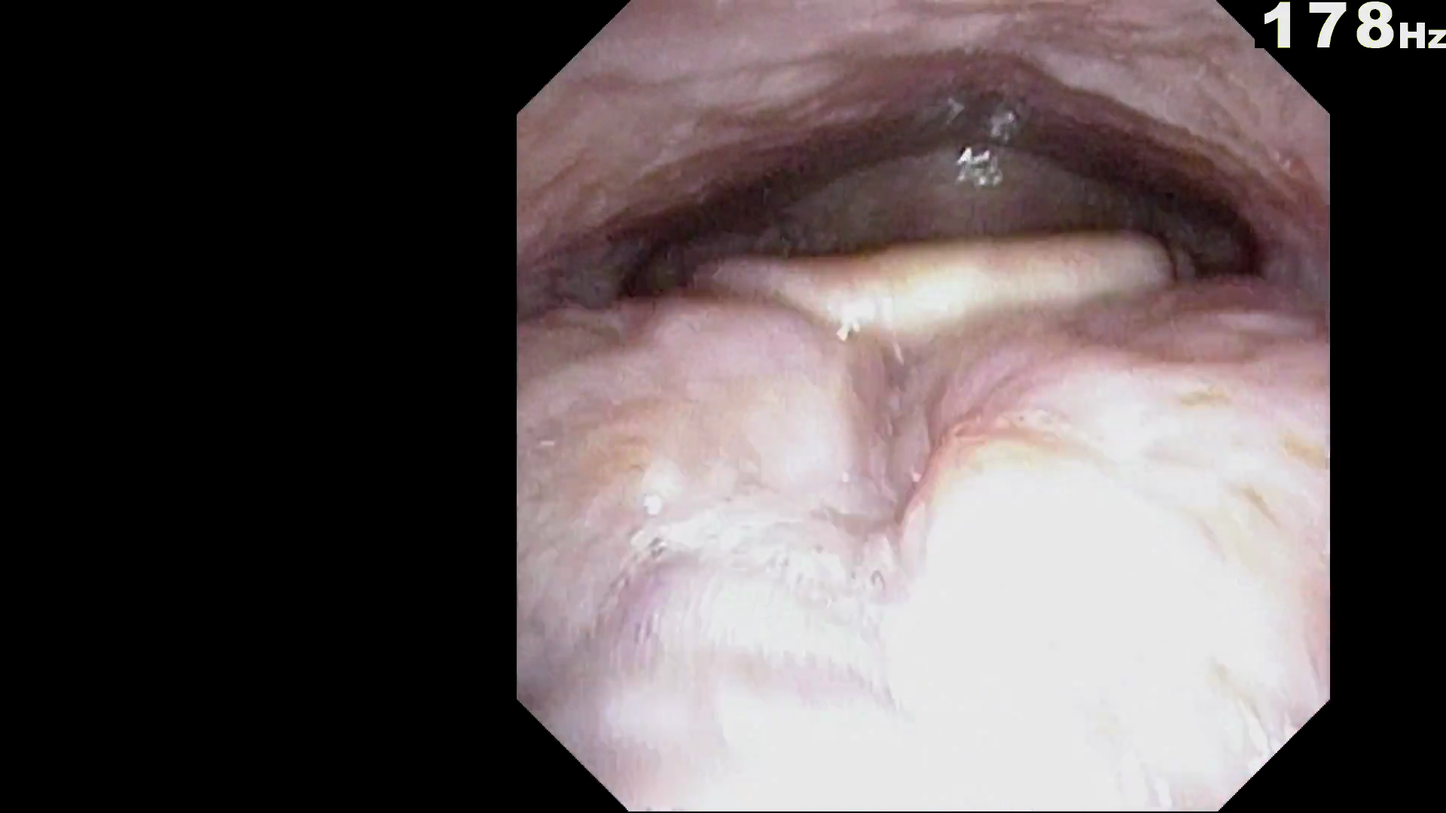epiglottis: (663, 227, 1196, 366)
